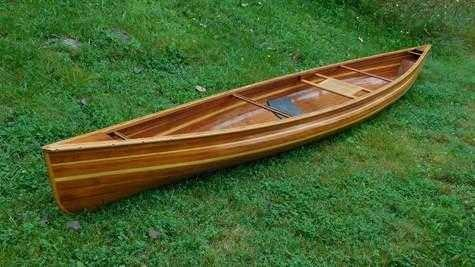kayak: (44, 42, 432, 217)
